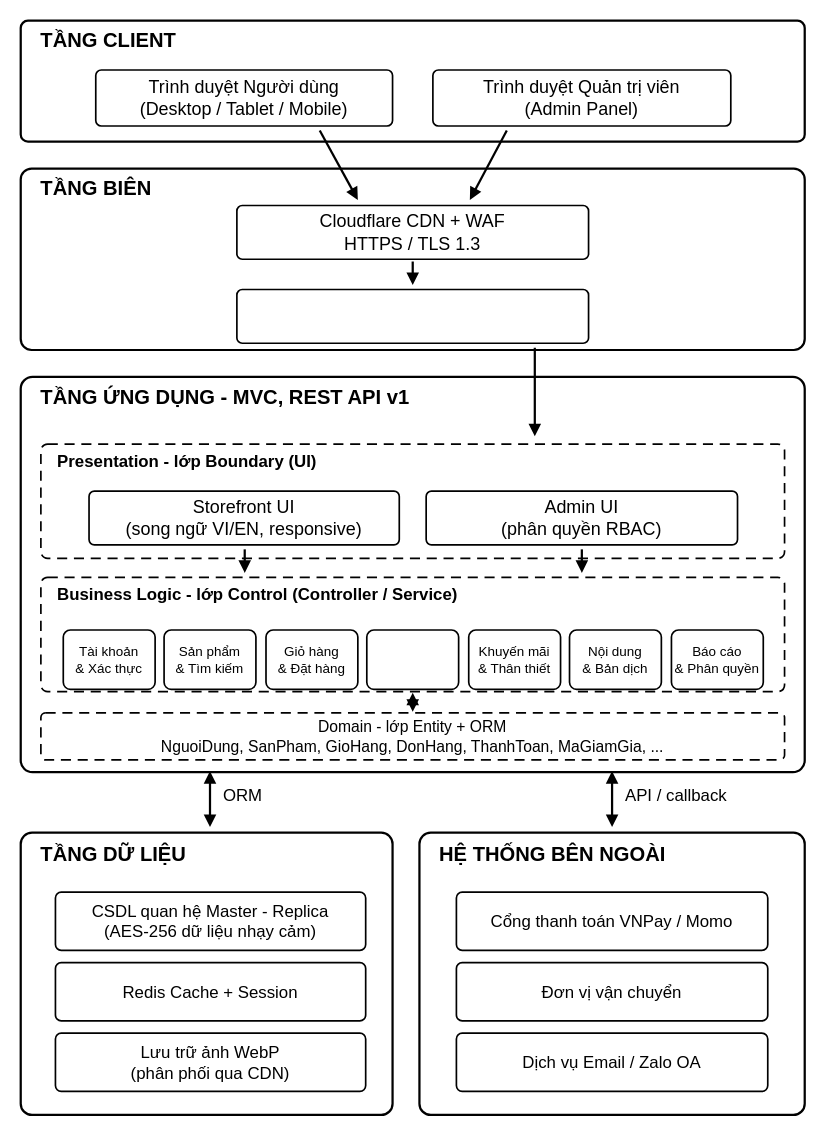
Some shapes in this 824 by 1135 pixel diagram are drawn without their labels. Each missing label, with the centre of its shape:
"Nginx Load Balancer (horizontal scaling)" belongs at (412,316).
"Thanh toán" belongs at (412,659).
